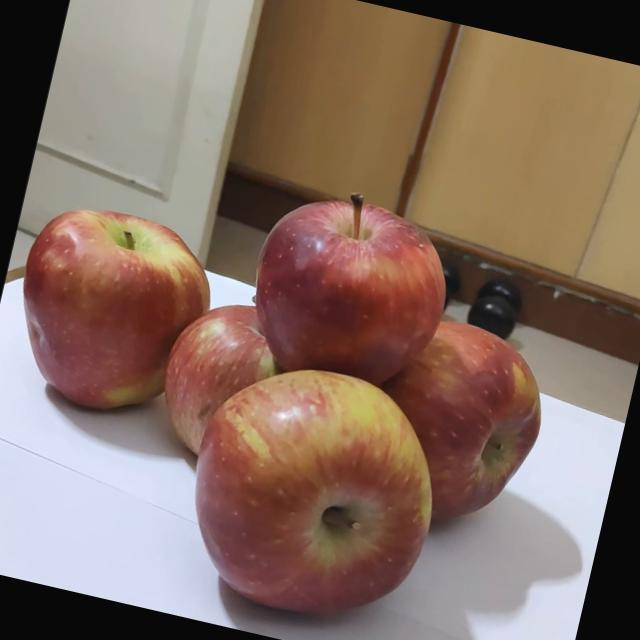apple: (149, 335, 450, 640), (0, 183, 294, 455), (311, 298, 554, 549), (235, 156, 470, 395)
